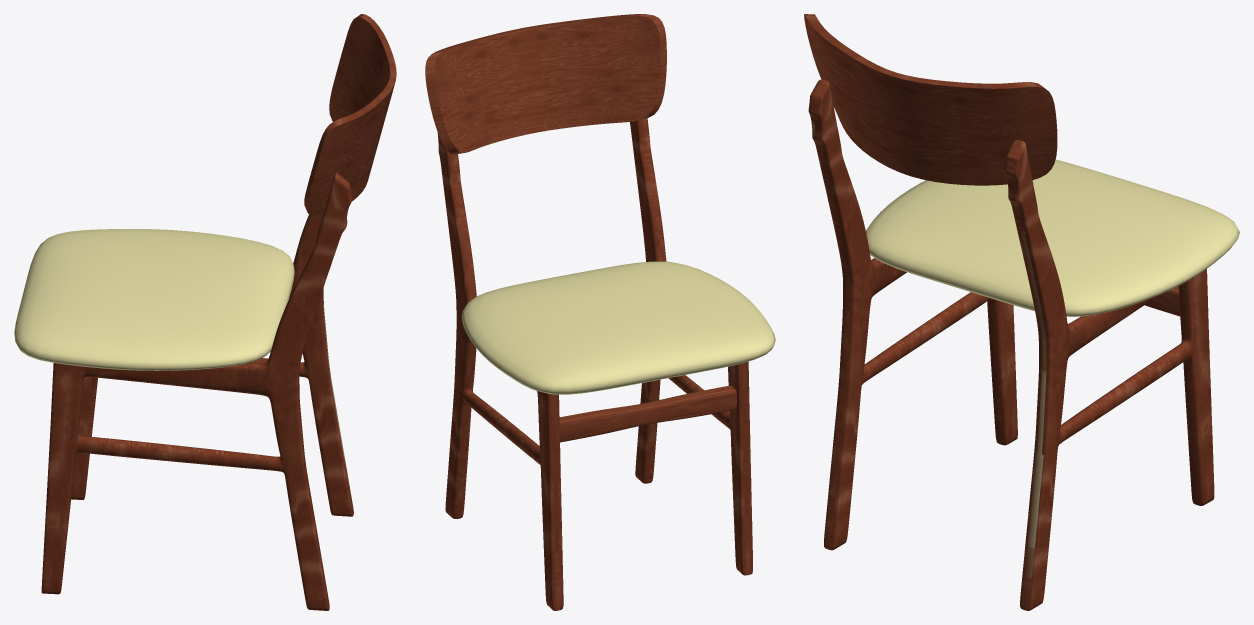
File: diningchair.glb
3 renders of one model, left to right at view 1: azimuth 30°, elevation 25°; view 2: azimuth 150°, elevation 25°; view 3: azimuth 270°, elevation 25°, orthographic. The views are drawn at different scales.
Visible parts, largest first — view 1: Cube.004_Cube.009; view 2: Cube.004_Cube.009; view 3: Cube.004_Cube.009.
Boxes of the visible parts, bbox=[...] form: Cube.004_Cube.009: bbox=[14, 14, 396, 610]; Cube.004_Cube.009: bbox=[425, 14, 775, 610]; Cube.004_Cube.009: bbox=[804, 14, 1239, 610].
Bounding box in the file's own units: 5.76 × 7.58 × 5.61.
2 materials, 1 textured.
